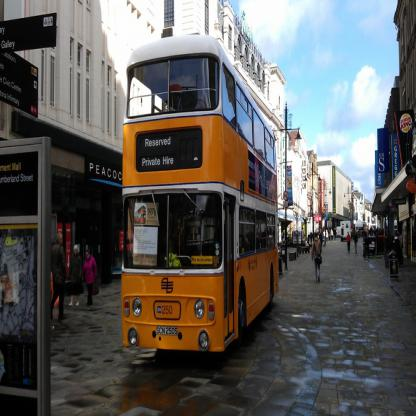Bus: (122, 35, 279, 351)
